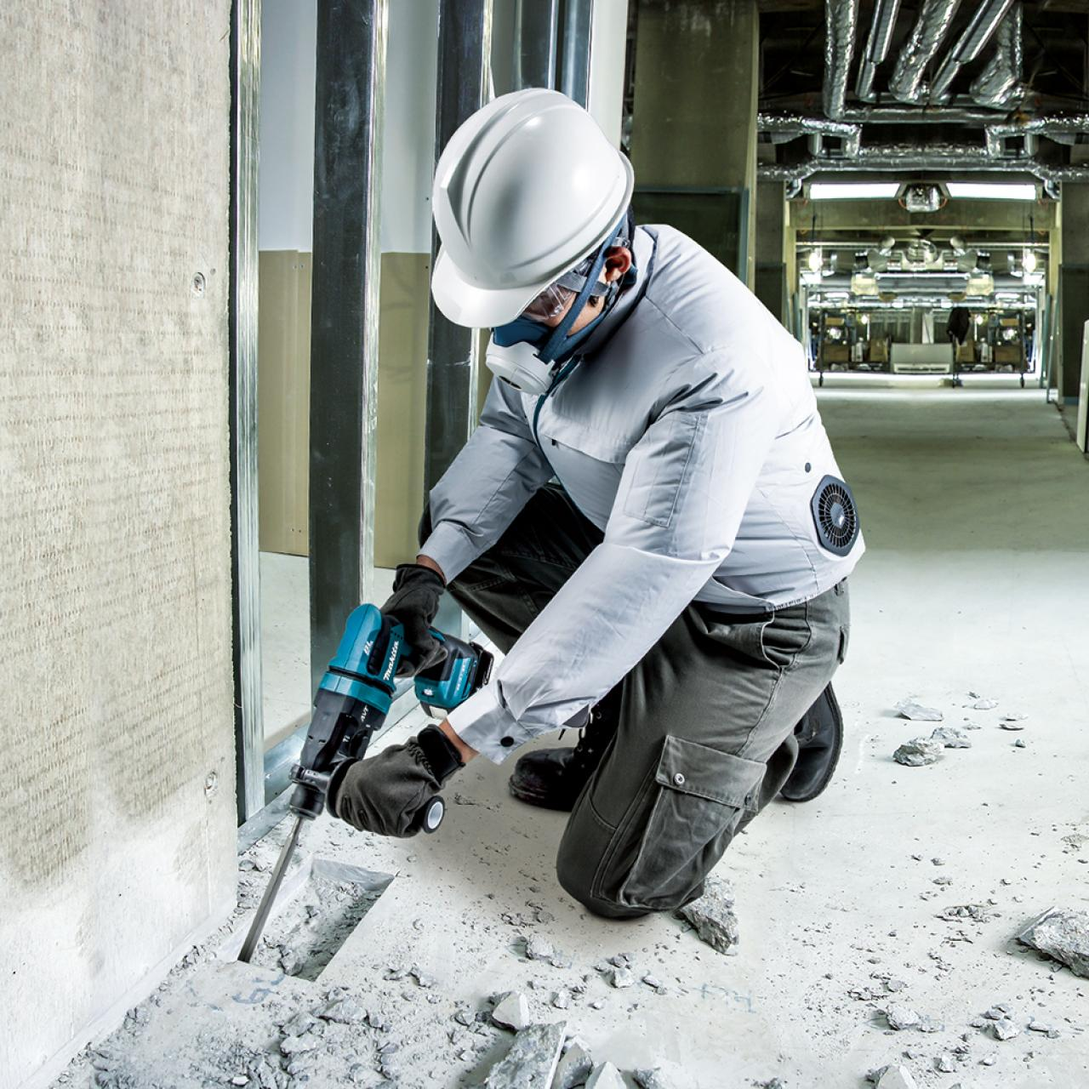NO_Safety_Vest: (489, 224, 878, 627)
Person: (247, 44, 924, 948)
